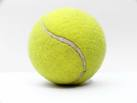tennis ball: (26, 7, 107, 88)
